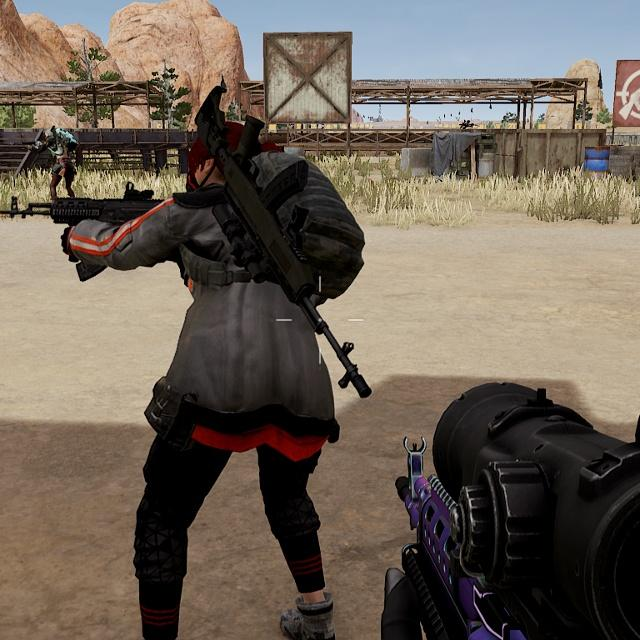head: (180, 106, 270, 197), (43, 124, 57, 143)
people: (73, 95, 370, 640), (27, 121, 89, 205)
